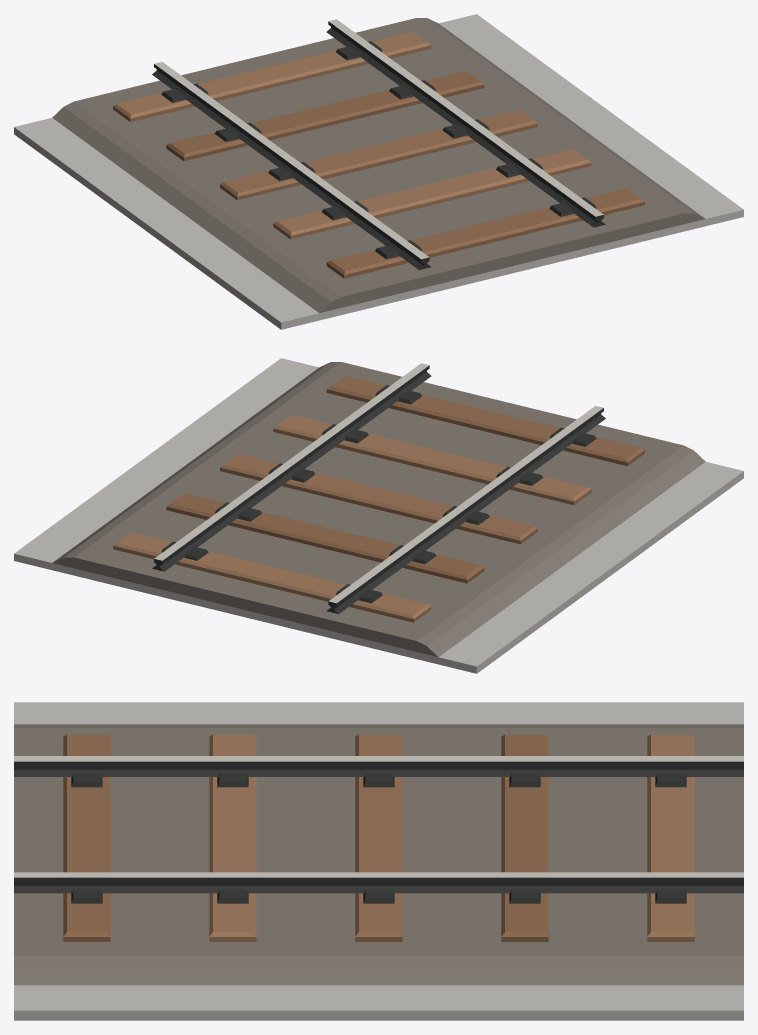
Rendered from straight-track-d4cf38.glb.
3 views of the same model, one above another, from view 1: azimuth 30°, elevation 25°; view 2: azimuth 150°, elevation 25°; view 3: azimuth 270°, elevation 25° (orthographic). The views are drawn at different scales.
Parts seen in each view (by area): view 1: straight-track-body; view 2: straight-track-body; view 3: straight-track-body.
Part boxes in pixels (bbox=[...]): straight-track-body: bbox=[14, 14, 743, 329]; straight-track-body: bbox=[14, 358, 743, 673]; straight-track-body: bbox=[14, 702, 743, 1020].
Size of the model in its own units: 4 by 0.3 by 4.
